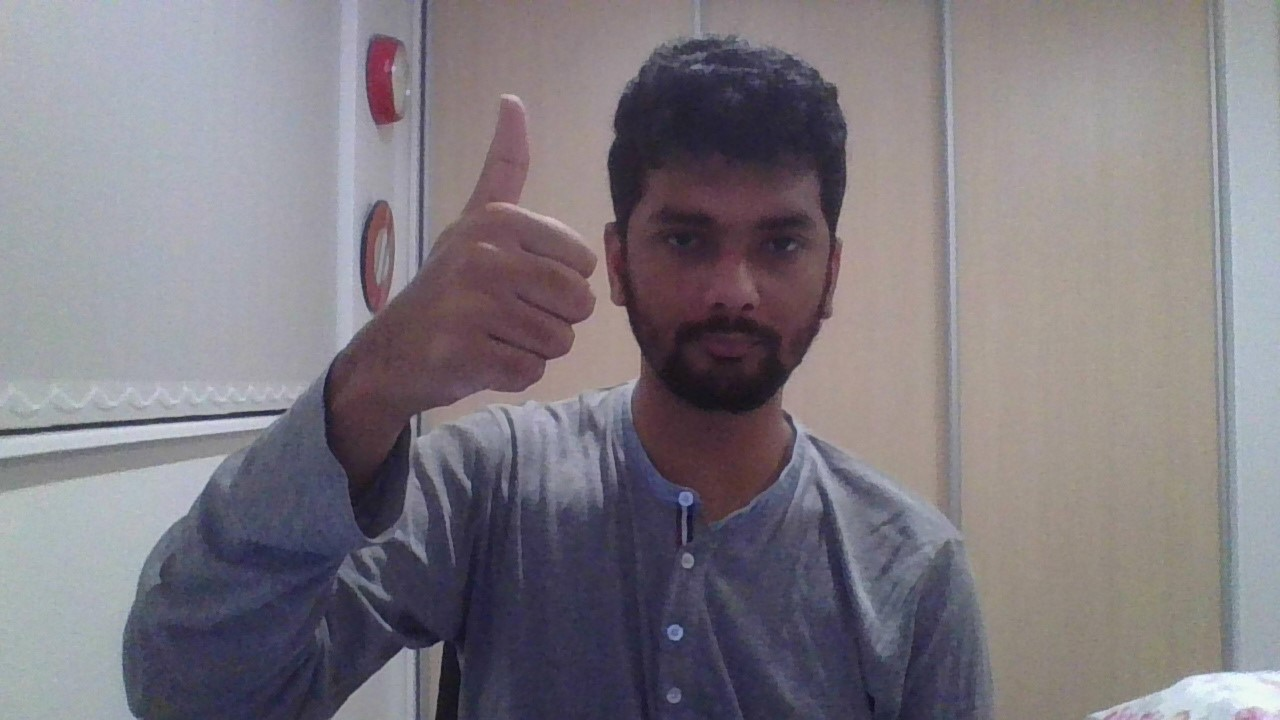good: (380, 91, 598, 408)
